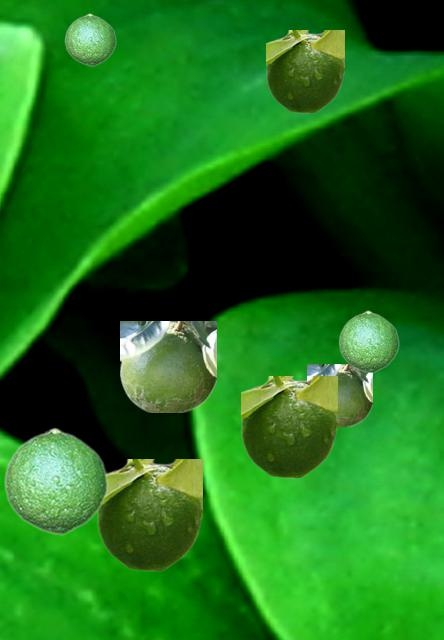dalandan: (97, 459, 201, 570), (3, 427, 107, 534), (241, 376, 336, 477), (120, 321, 215, 411), (266, 30, 343, 112), (307, 364, 371, 425), (338, 310, 398, 372), (64, 13, 115, 65)
